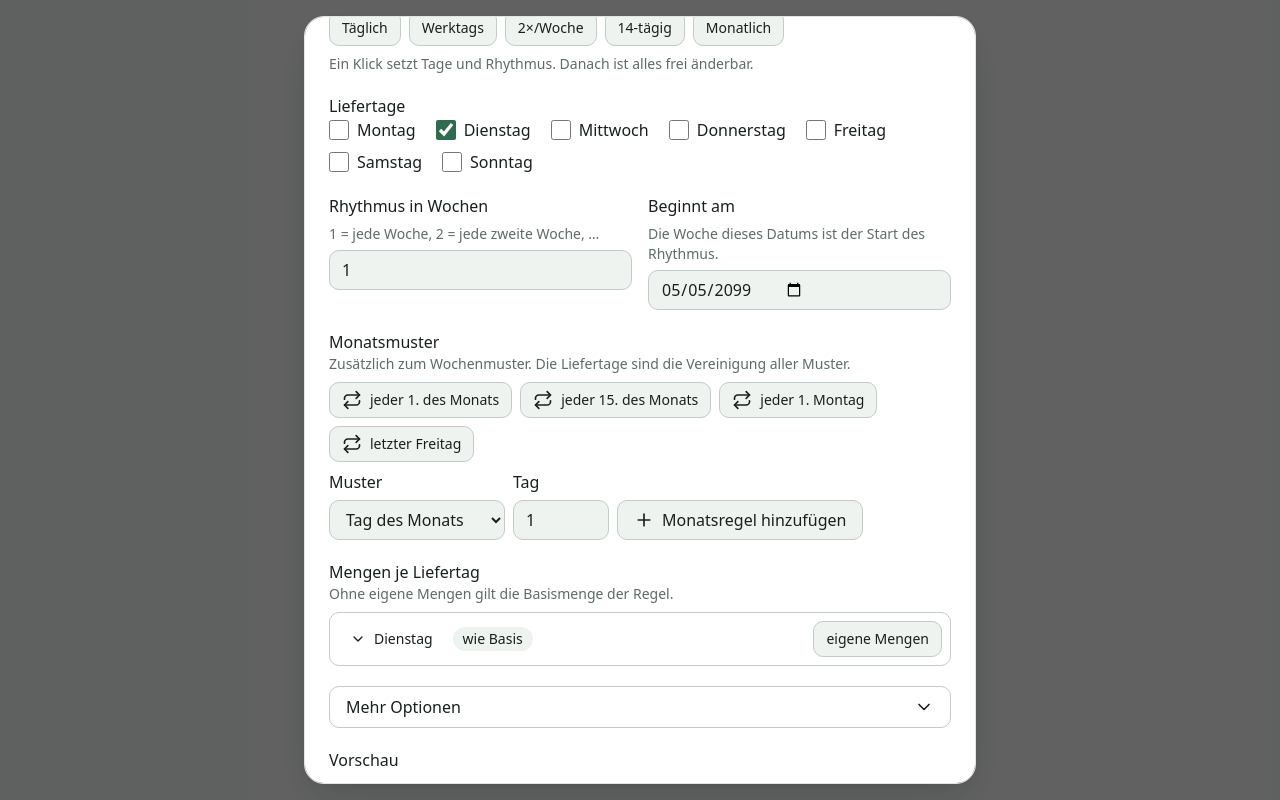
Test case: OrderRecurringDialog (NUD-166, NUD-171) › adds and removes a monthly chip and sends the union pattern
Later steps or results of the test are not shown.
(page scrolled)
Click the button with test id "order-recurring-monthly-chip-day-1": (421, 400) [329,382,512,418]
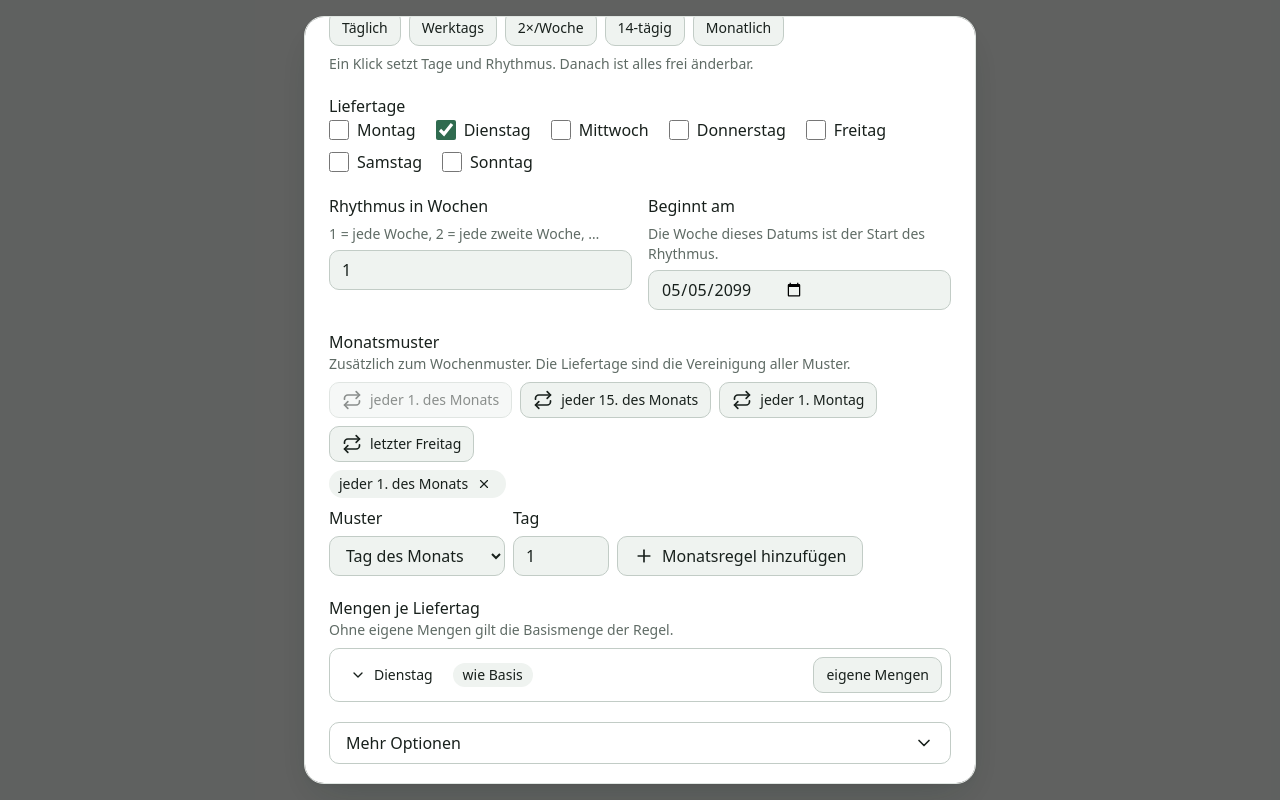
Expected: the list with test id "order-recurring-monthly-applied" reads "jeder 1. des Monats", [339,474,468,493]
Expected: the button with test id "order-recurring-monthly-chip-day-1" is disabled, [329,382,512,418]
Click the button with test id "order-recurring-monthly-remove-0": (484, 484) [472,472,496,496]
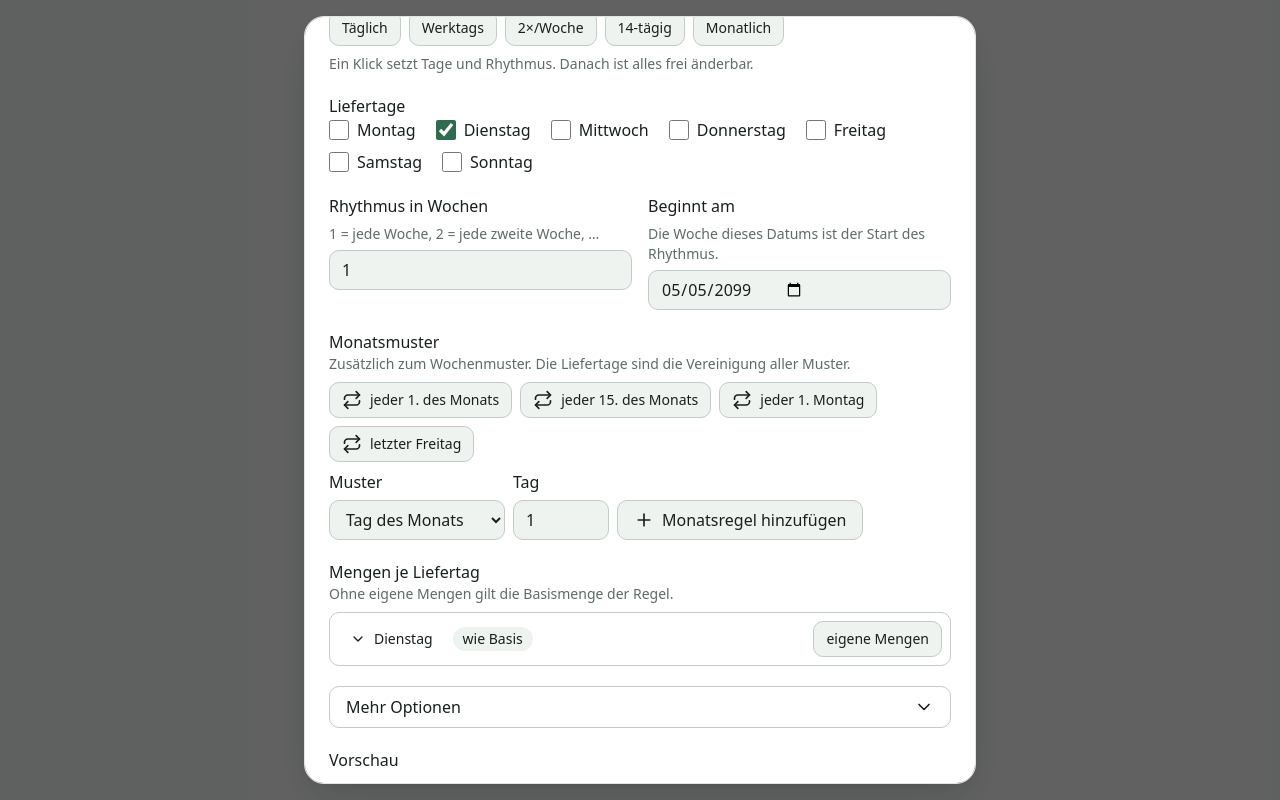
Expected: the list with test id "order-recurring-monthly-applied" is gone
